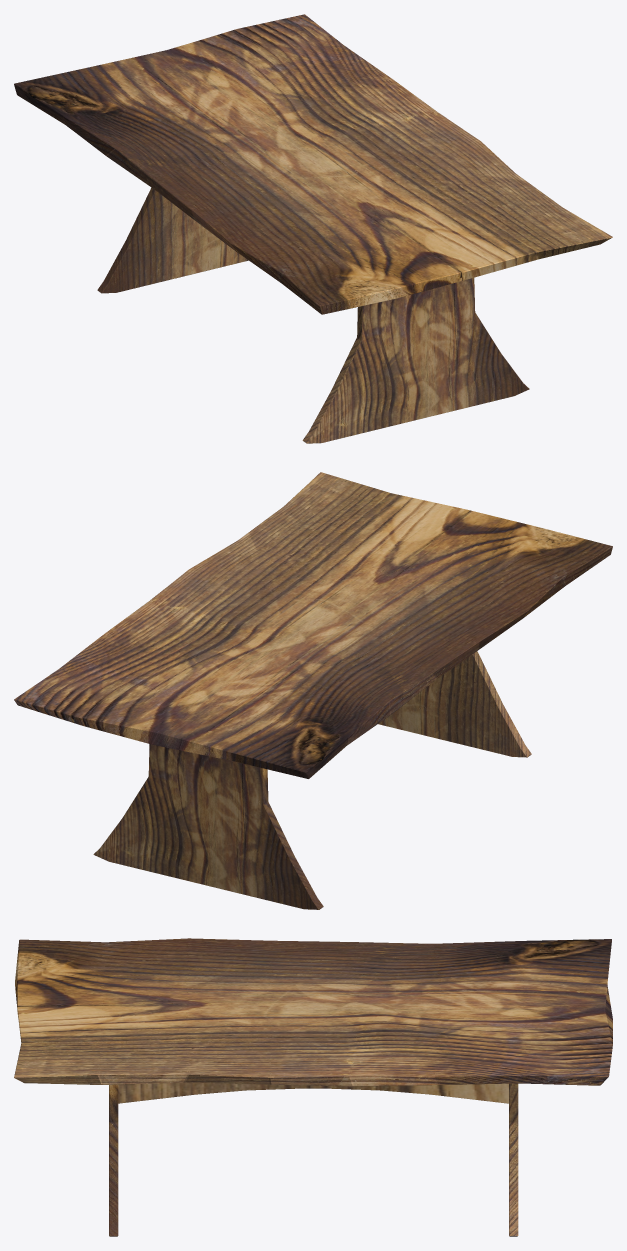
The model's file is mesa.obj.
3 views of the same model, one above another, from view 1: azimuth 30°, elevation 25°; view 2: azimuth 150°, elevation 25°; view 3: azimuth 270°, elevation 25° (orthographic). The views are drawn at different scales.
Parts seen in each view (by area): view 1: Object_4_Object_0; view 2: Object_4_Object_0; view 3: Object_4_Object_0.
Part boxes in pixels (<box>): Object_4_Object_0: <box>14,14,612,443</box>; Object_4_Object_0: <box>14,472,612,909</box>; Object_4_Object_0: <box>14,938,612,1236</box>.
Size of the model in its own units: 1.34 by 0.7994 by 2.43.
Materials: 2 (1 with a texture image).
